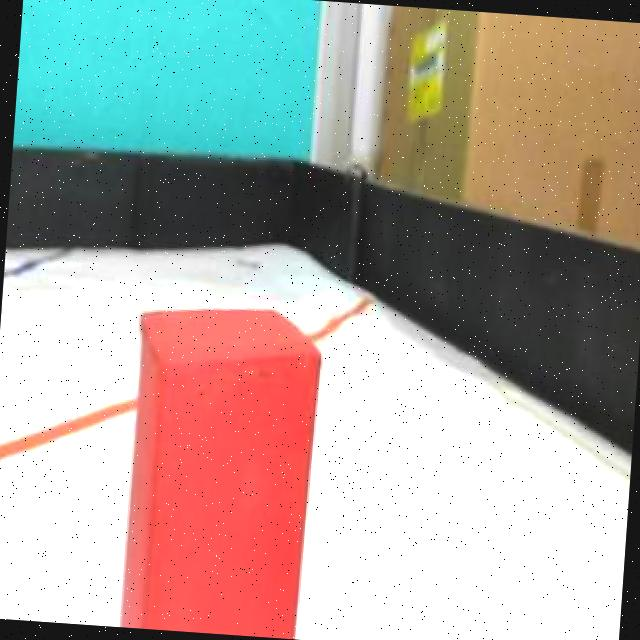redbox: (116, 296, 325, 640)
